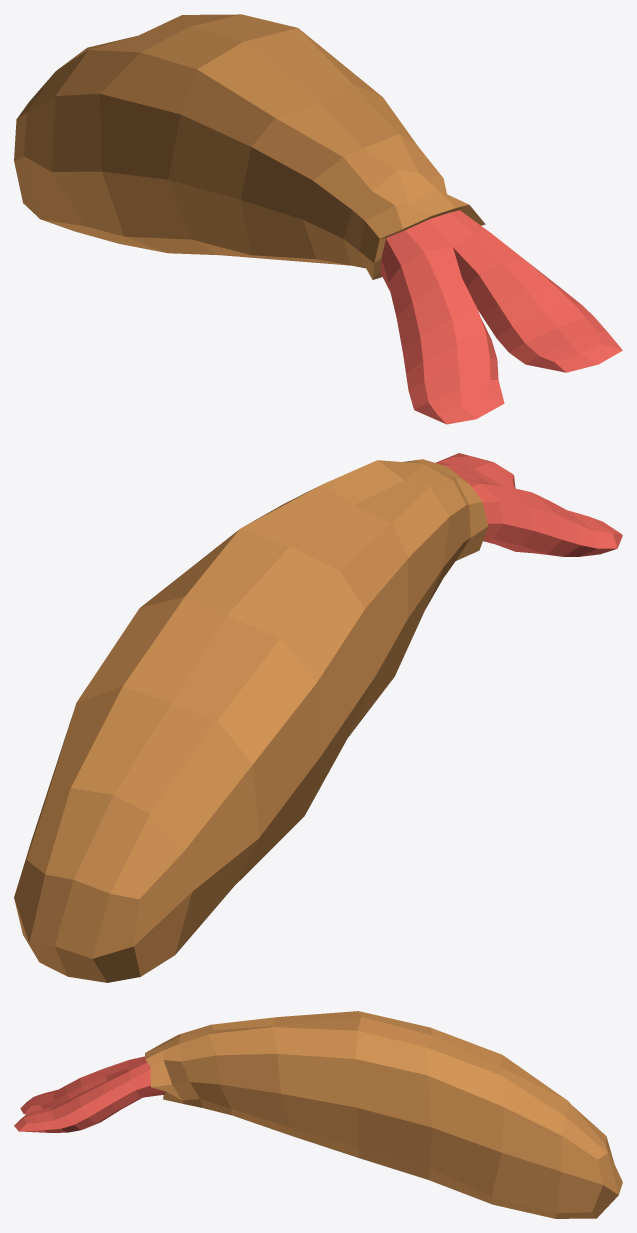
File: Comida_Tempura_NoTextures.fbx
3 views of the same model, one above another, from view 1: azimuth 30°, elevation 25°; view 2: azimuth 150°, elevation 25°; view 3: azimuth 270°, elevation 25° (orthographic). The views are drawn at different scales.
Parts seen in each view (by area): view 1: Cube.001; view 2: Cube.001; view 3: Cube.001.
Boxes of the visible parts, x1=… form: Cube.001: x1=14, y1=14, x2=622, y2=424; Cube.001: x1=14, y1=453, x2=622, y2=982; Cube.001: x1=14, y1=1011, x2=622, y2=1218.
Size of the model in its own units: 7.83 by 11.04 by 32.2.
